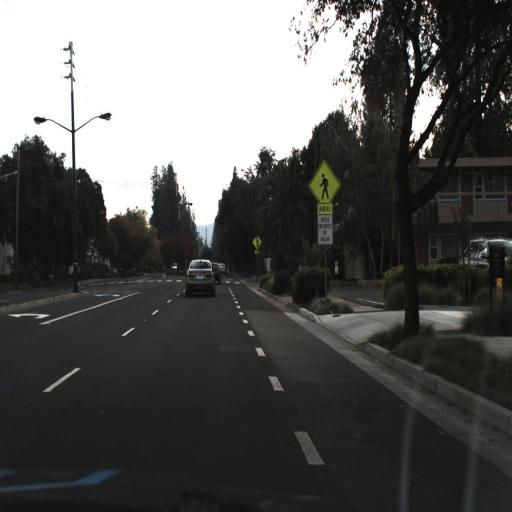car: (456, 235, 512, 292), (182, 256, 219, 302), (210, 257, 220, 291)
